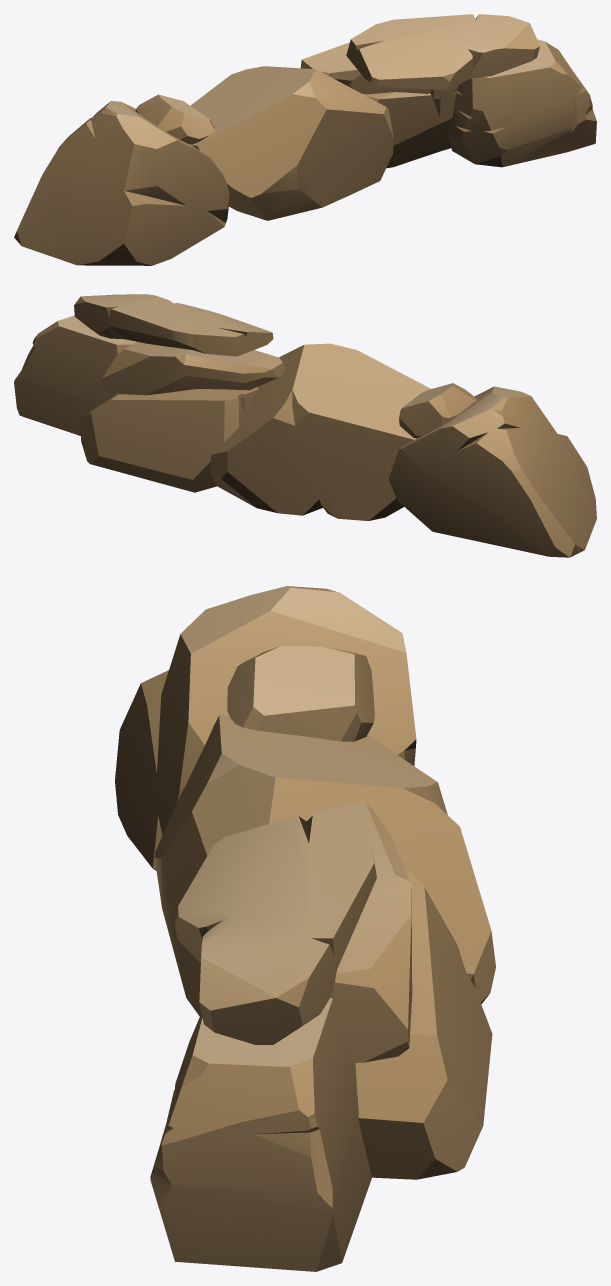
File: Cliff_Horizontal_1A.fbx
3 renders of one model, top to bottom at view 1: azimuth 30°, elevation 25°; view 2: azimuth 150°, elevation 25°; view 3: azimuth 270°, elevation 25°, orthographic. The views are drawn at different scales.
Visible parts, largest first — view 1: Cliff_Horizontal_1A; view 2: Cliff_Horizontal_1A; view 3: Cliff_Horizontal_1A.
Part boxes in pixels (x1,y1,x2,y2): Cliff_Horizontal_1A: (14, 14, 596, 265); Cliff_Horizontal_1A: (14, 294, 596, 557); Cliff_Horizontal_1A: (115, 586, 495, 1271).
Size of the model in its own units: 4700 by 1029 by 1421.
